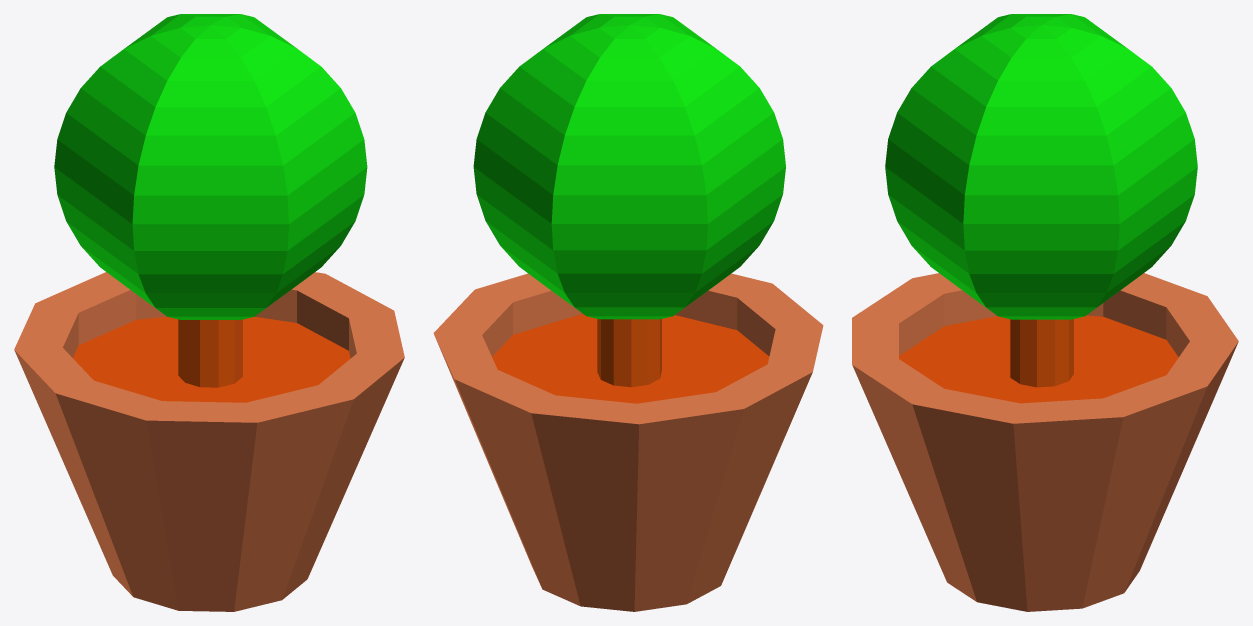
File: flor_vaso_1.fbx
3 renders of one model, left to right at view 1: azimuth 30°, elevation 25°; view 2: azimuth 150°, elevation 25°; view 3: azimuth 270°, elevation 25°, orthographic.
Visible parts, largest first — view 1: Cylinder; view 2: Cylinder; view 3: Cylinder.
Part boxes in pixels (x1,y1,x2,y2): Cylinder: (14,14,404,611); Cylinder: (433,14,823,611); Cylinder: (852,14,1238,611).
Size of the model in its own units: 198 by 305 by 196.
